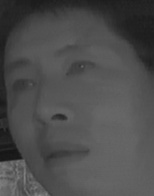eye: (63, 58, 99, 78), (7, 74, 38, 96)
mouth: (37, 138, 93, 170)
